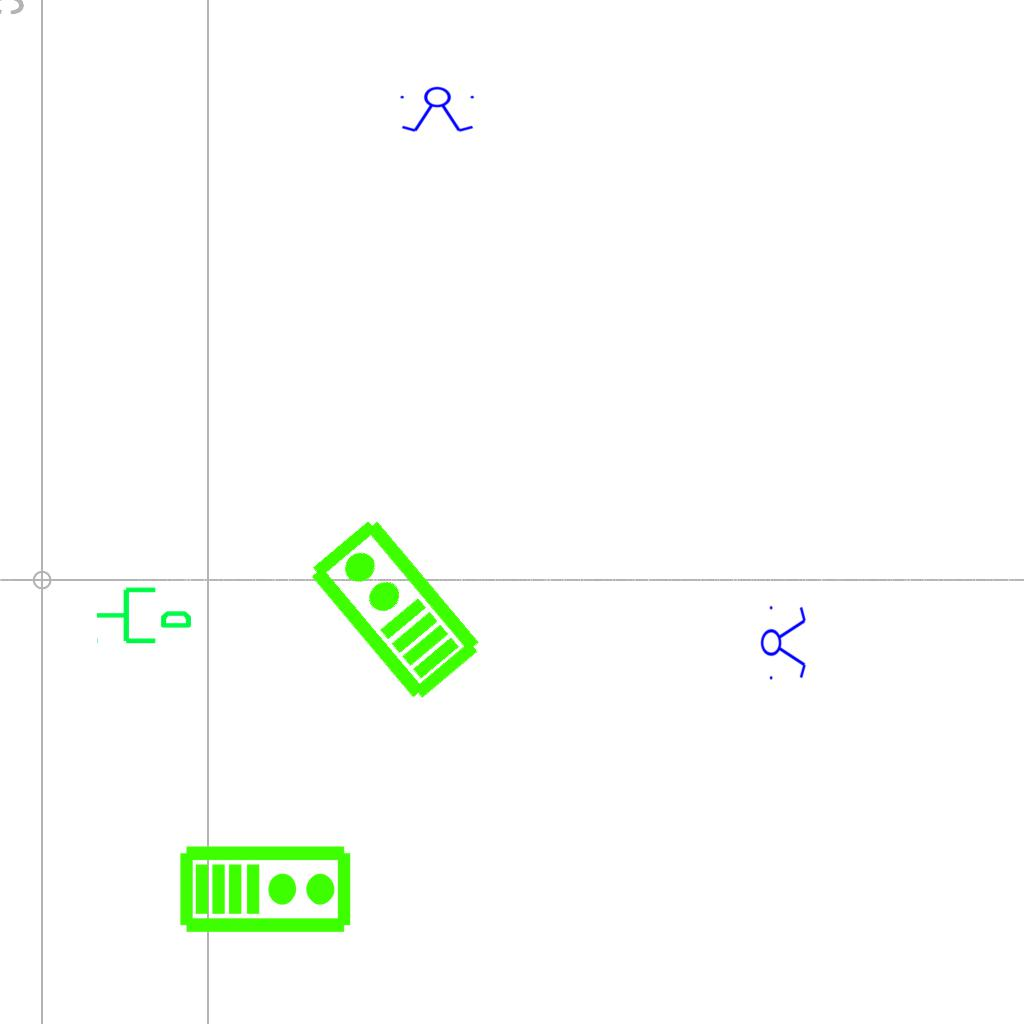Datenanschluss_einfach: (94, 579, 194, 648)
Gegensprechanlage_mit_Video: (300, 512, 487, 708), (178, 840, 354, 935)
Serienschalter: (760, 600, 808, 684), (396, 86, 480, 134)
